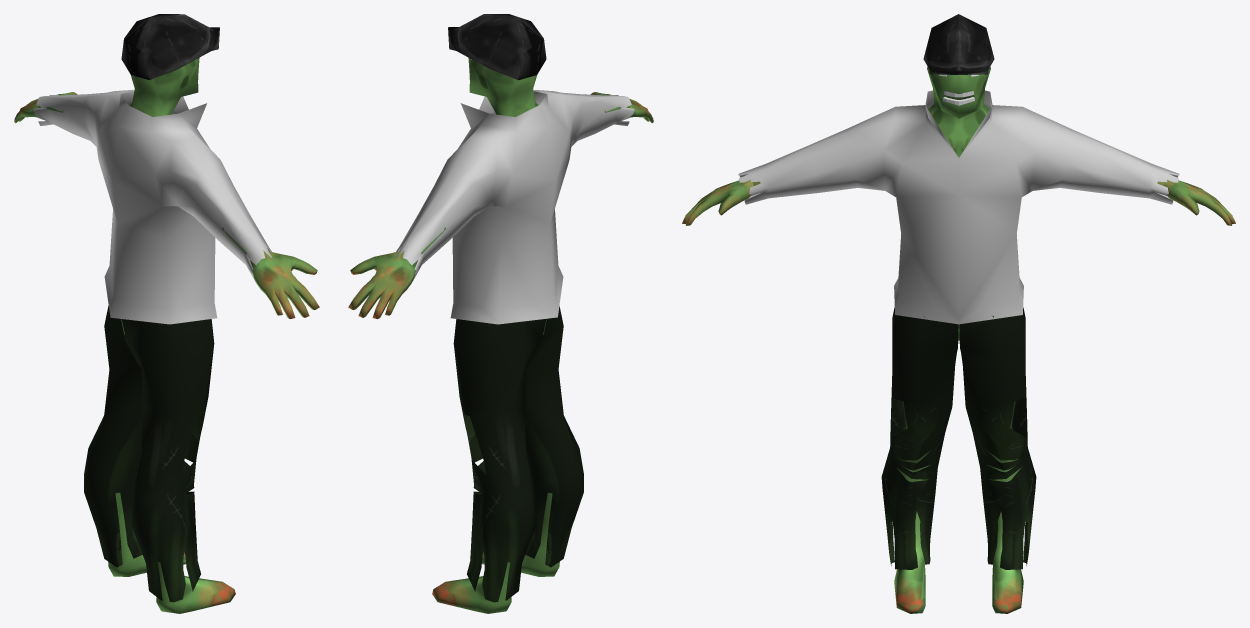
Rendered from zombie3.fbx.
The picture shows the model from 3 angles, left to right: view 1: azimuth 30°, elevation 25°; view 2: azimuth 150°, elevation 25°; view 3: azimuth 270°, elevation 25°; orthographic projection.
Parts seen in each view (by area): view 1: shirt, Cube.002, Cube.001, Cube.003; view 2: shirt, Cube.002, Cube.001, Cube.003; view 3: shirt, Cube.002, Cube.001, Cube.003.
Part boxes in pixels (<box>): shirt: <box>33,89,272,324</box>; Cube.002: <box>84,305,214,602</box>; Cube.001: <box>14,57,319,613</box>; Cube.003: <box>121,14,219,80</box>; shirt: <box>395,90,634,324</box>; Cube.002: <box>453,306,583,602</box>; Cube.001: <box>348,57,653,613</box>; Cube.003: <box>448,14,546,80</box>; shirt: <box>738,90,1179,324</box>; Cube.002: <box>881,307,1036,569</box>; Cube.001: <box>682,66,1235,613</box>; Cube.003: <box>923,14,994,74</box>.
Bounding box in the file's own units: 38.01 × 190 × 167.
